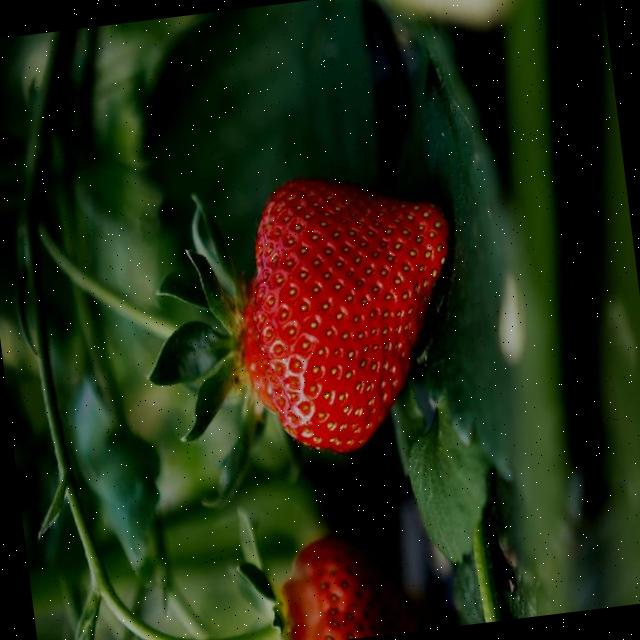strawberry: (242, 178, 447, 451), (280, 535, 418, 640)
